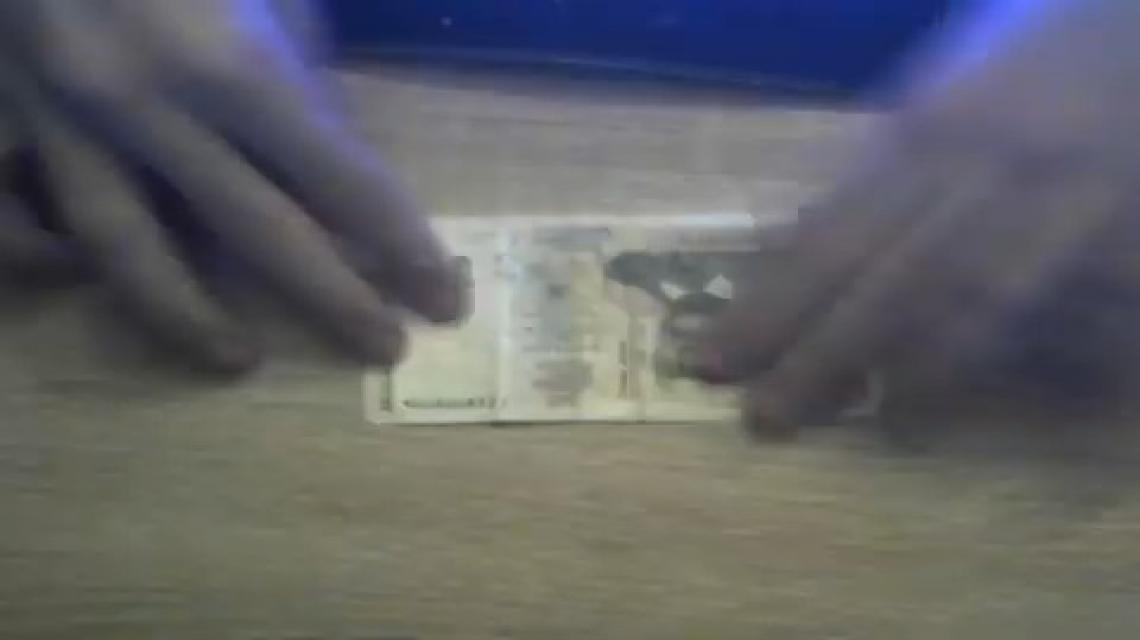10leva: (361, 210, 765, 427)
